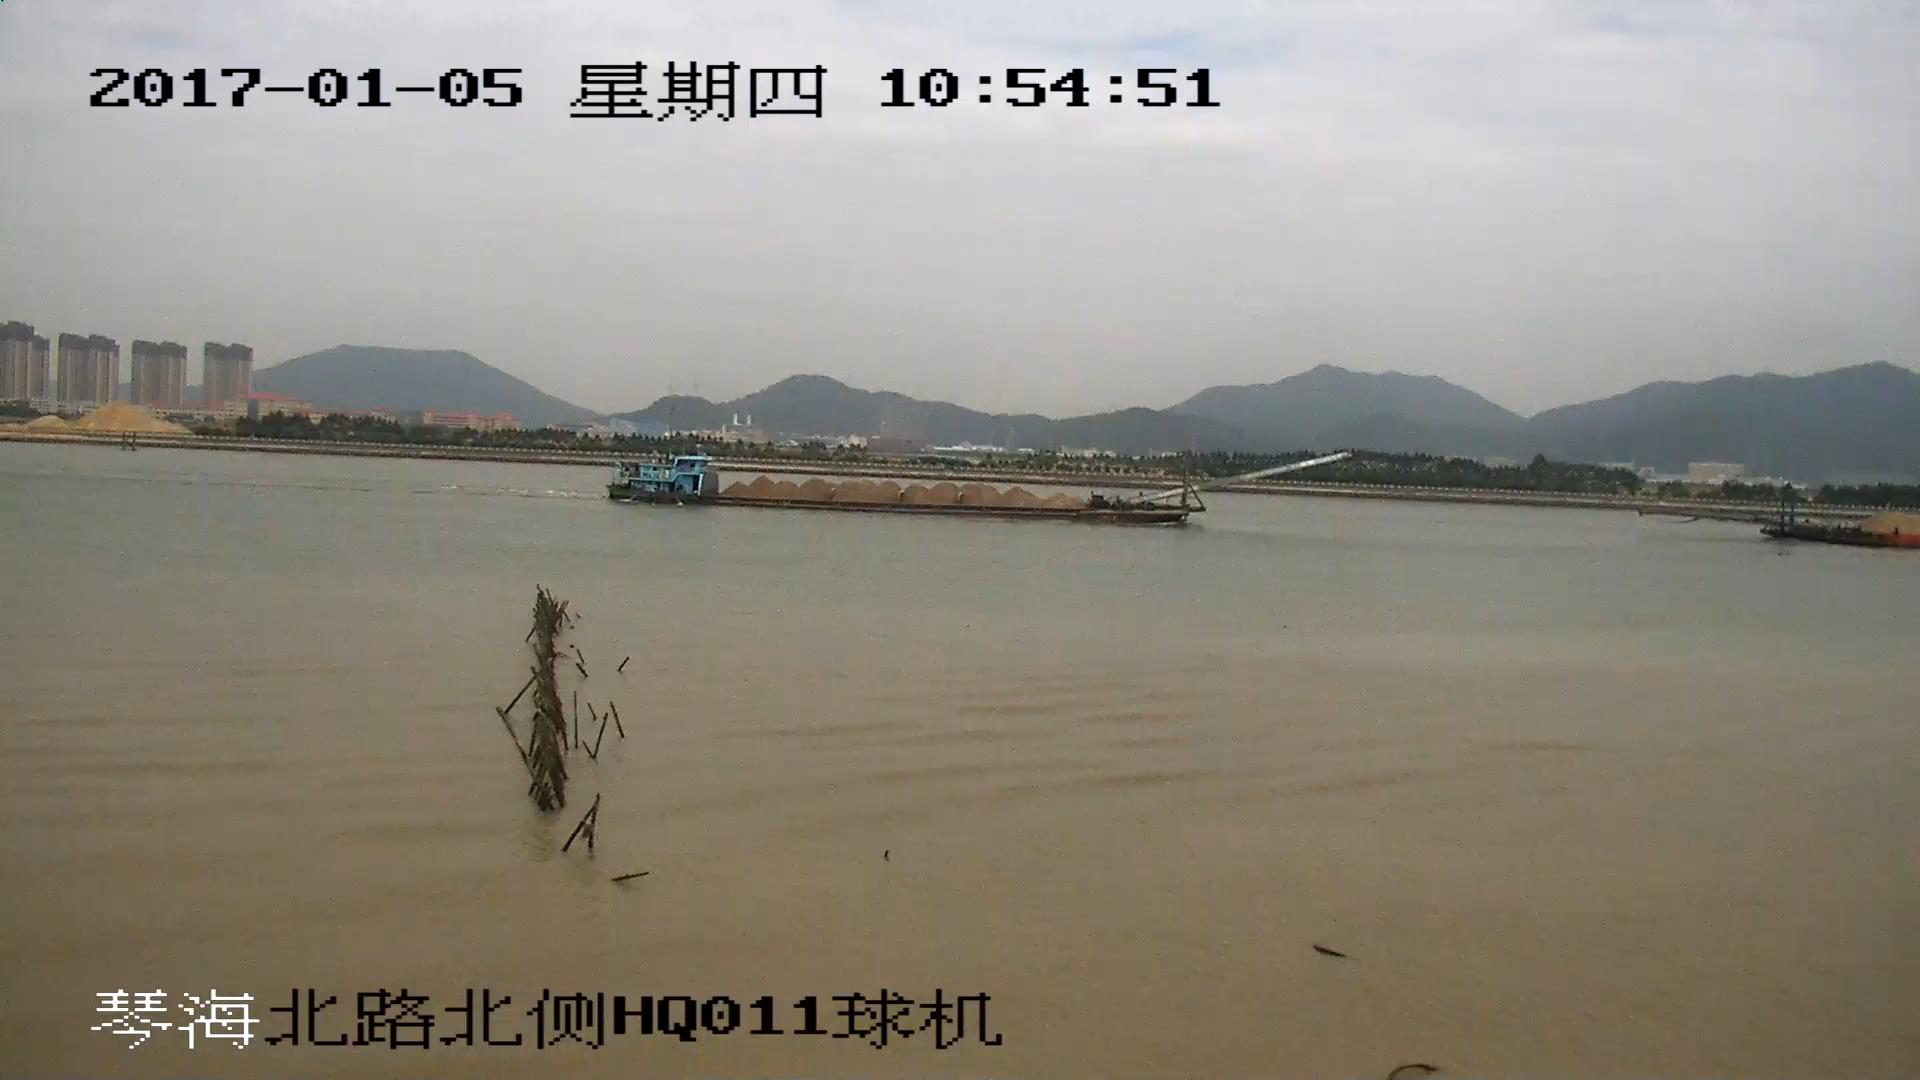ore carrier: (606, 454, 1346, 526), (1640, 496, 1920, 547)
